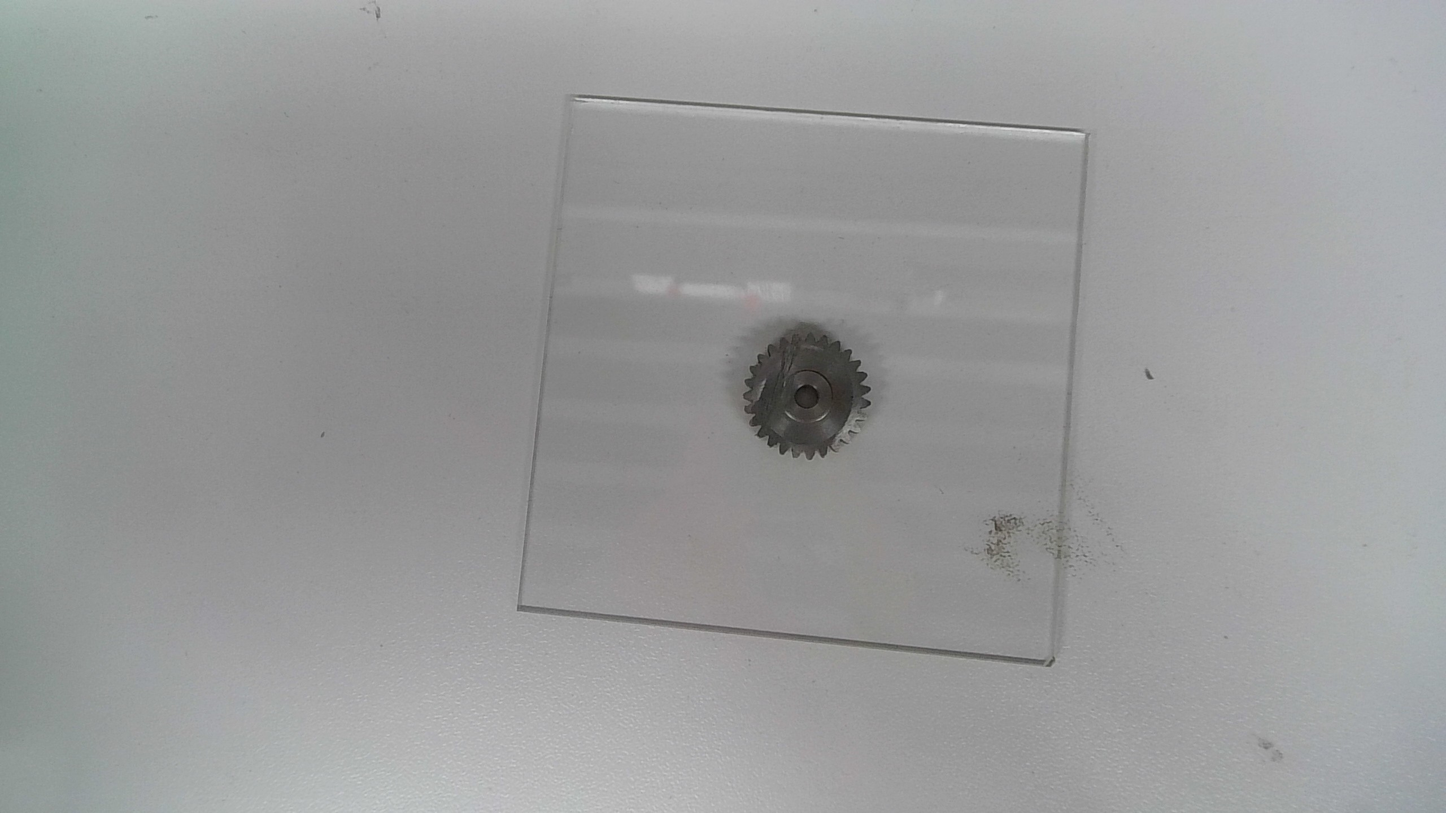gear: (741, 329, 873, 464)
